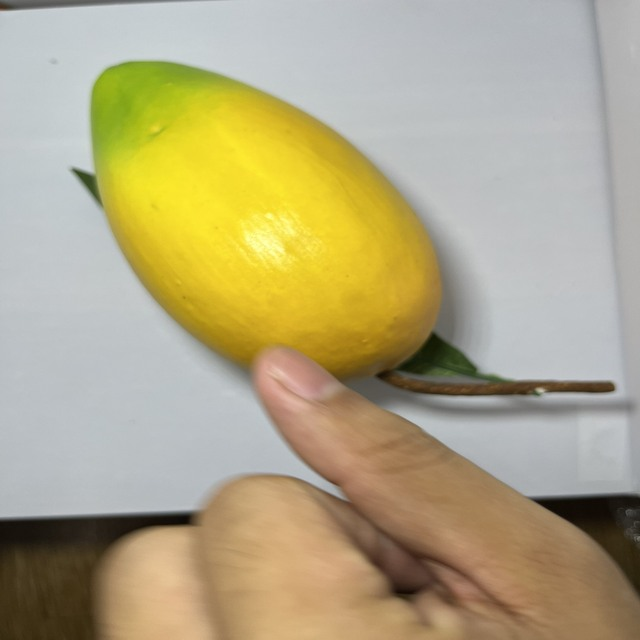Xoai: (50, 0, 490, 469)
